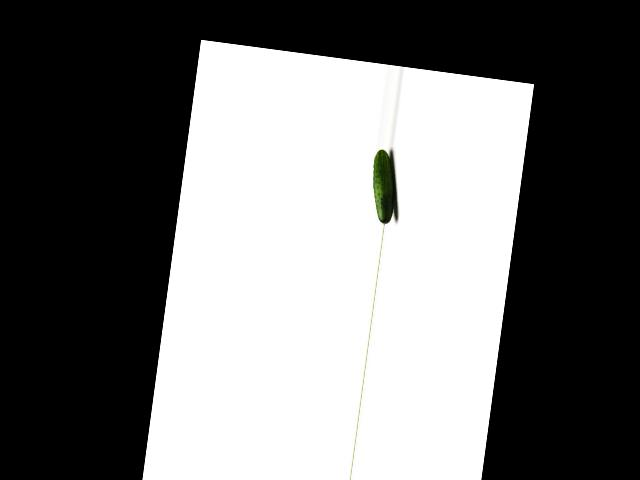cucumber: (366, 149, 401, 225)
